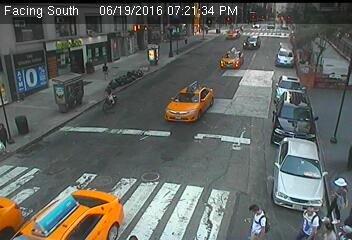neg: (268, 106, 297, 145), (236, 54, 262, 89), (92, 84, 117, 117), (96, 186, 116, 212), (173, 34, 192, 59), (202, 209, 221, 234), (190, 190, 208, 215), (14, 112, 32, 135), (122, 64, 138, 85), (196, 24, 212, 44)
pos: (324, 176, 351, 226), (242, 202, 271, 239), (295, 204, 322, 239), (99, 62, 113, 81)
